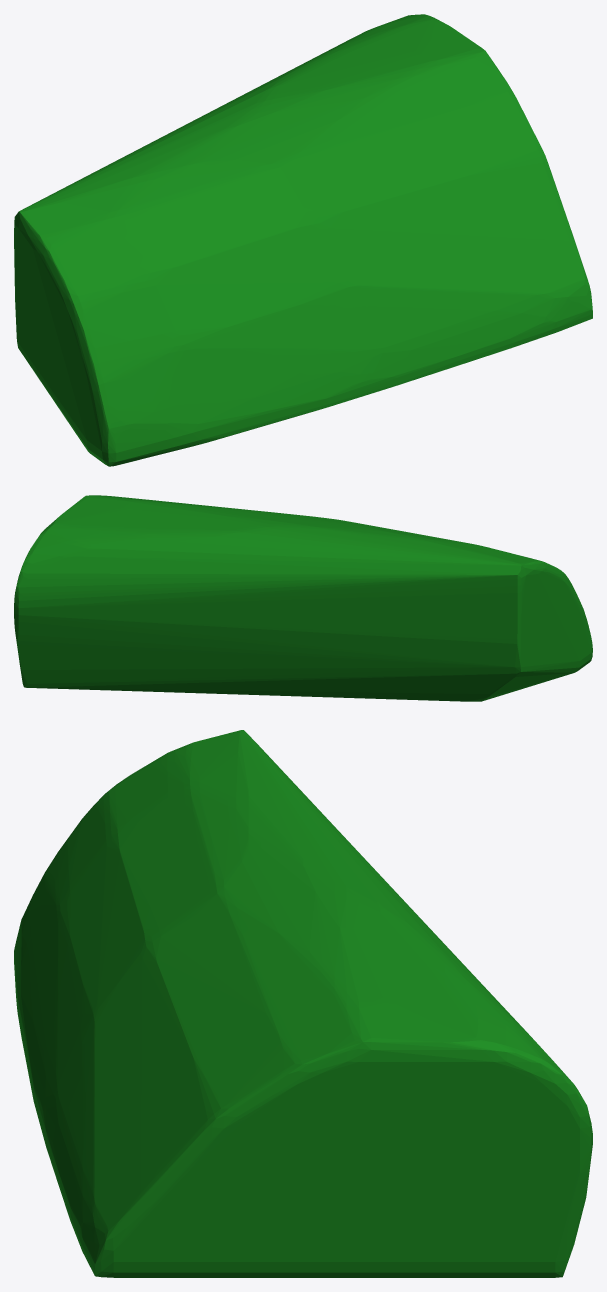
File: right-elbow-0_part_8.obj
3 views of the same model, one above another, from view 1: azimuth 30°, elevation 25°; view 2: azimuth 150°, elevation 25°; view 3: azimuth 270°, elevation 25° (orthographic). The views are drawn at different scales.
Size of the model in its own units: 0.0556 by 0.0204 by 0.0429.
